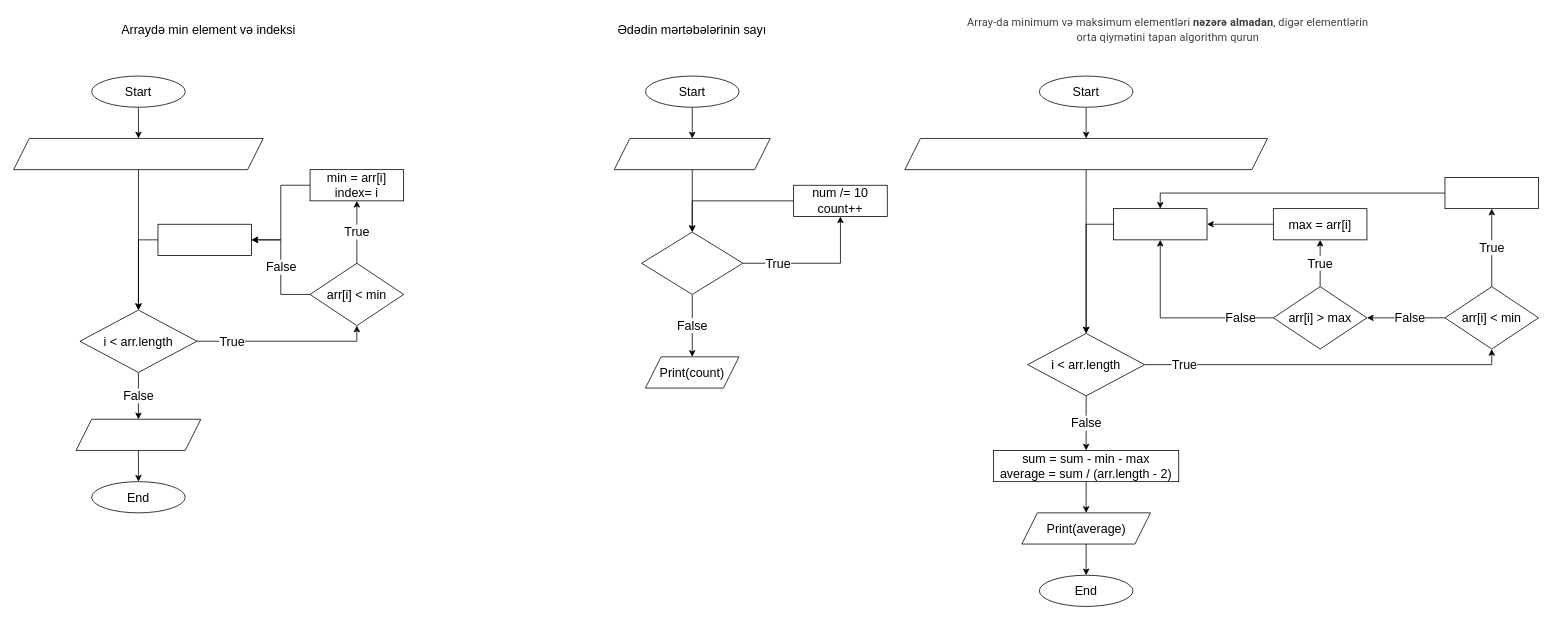
The diagram is 1552 pixels wide and 620 high, and some of its shapes have lost their labels. The shapes that lost their labels are listed below. From the top down, each one's box as (x1, y1, x2, y2) in pixels, then its label:
(13, 138, 263, 170): let arr[], min = arr[0], index = 0, i = 1
(613, 138, 770, 170): let num, count = 0
(904, 138, 1268, 170): let arr[], min = arr[0], max = arr[0], sum = 0, average, i = 0
(1444, 177, 1539, 209): min = arr[i]
(157, 223, 252, 255): i++
(1113, 208, 1207, 240): sum += arr[i] i++
(641, 231, 743, 294): num != 0
(75, 418, 201, 450): Print(min, index)
